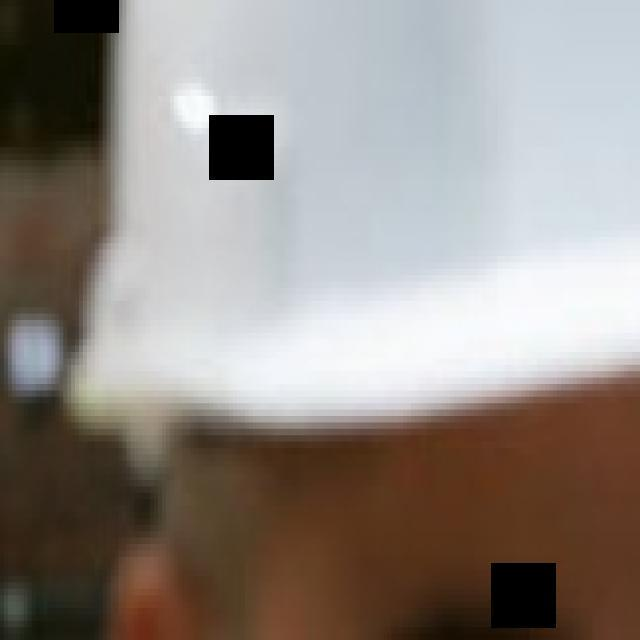white helmet: (58, 1, 640, 469)
